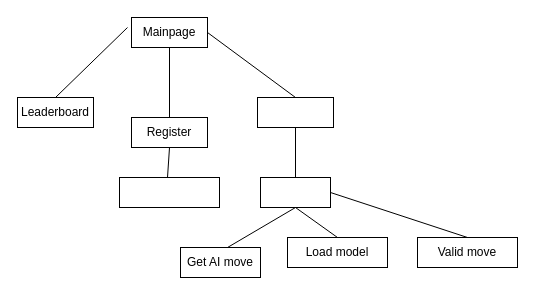
The diagram is 535 pixels wide and 295 high, and some of its shapes have lost their labels. The shapes that lost their labels are listed below. From the top down, each one's centre as x and y in pixels, then its label:
At [295,112]: "Login".
At [169,192]: "Create Model".
At [295,192]: "Play".
